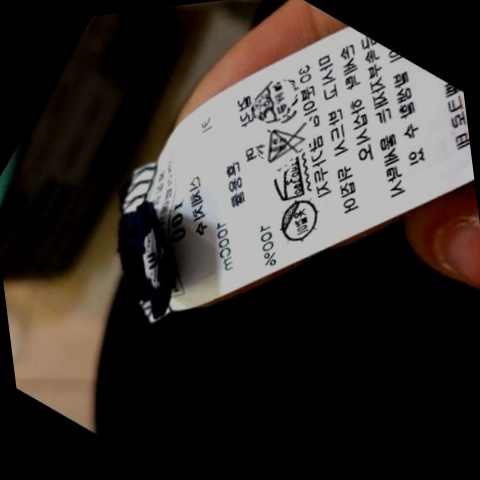hand_wash: (248, 75, 294, 124)
iron_medium: (267, 160, 307, 202)
line_dry_in_shade: (271, 195, 324, 247)
non_chlorine_bleach: (262, 123, 308, 162)
